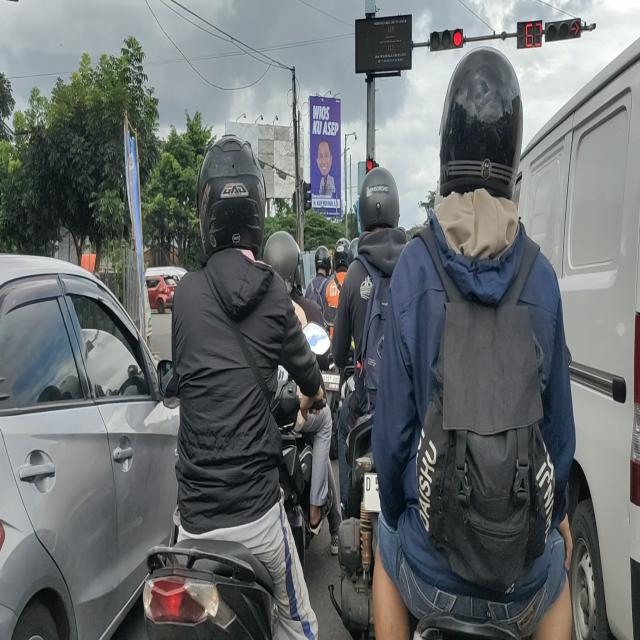helmet: (442, 44, 523, 208), (199, 137, 265, 248), (352, 168, 402, 237), (267, 230, 303, 284), (312, 242, 331, 275), (335, 238, 349, 269)
